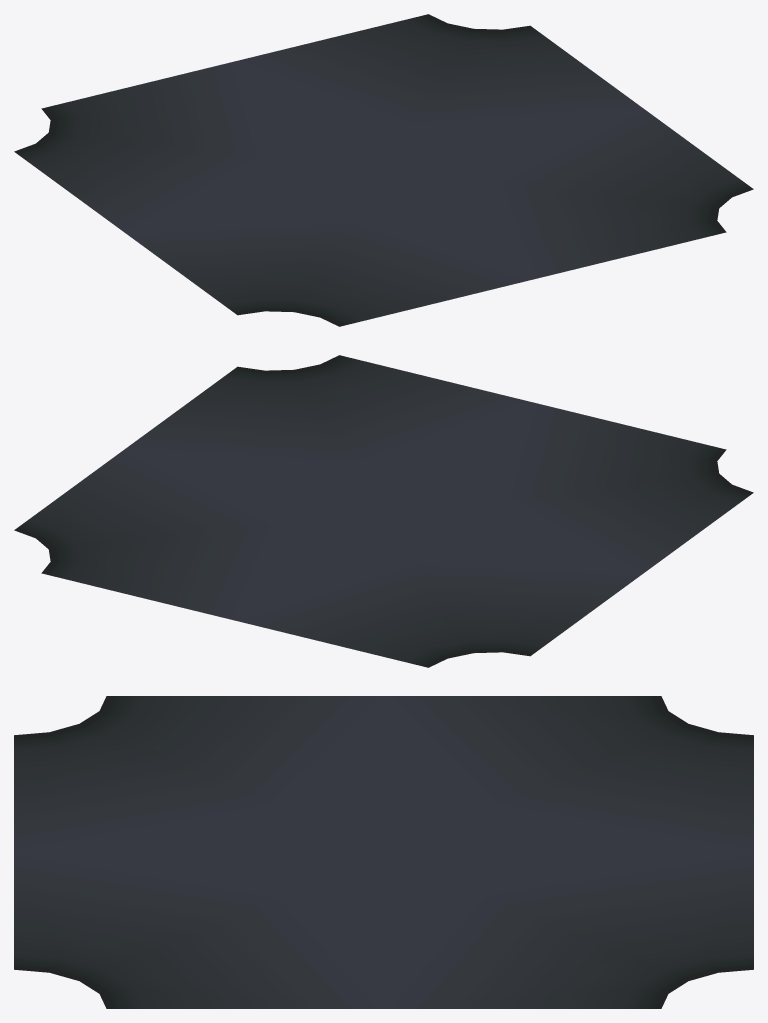
The model's file is cross.glb.
The picture shows the model from 3 angles, top to bottom: view 1: azimuth 30°, elevation 25°; view 2: azimuth 150°, elevation 25°; view 3: azimuth 270°, elevation 25°; orthographic projection. The views are drawn at different scales.
Visible parts, largest first — view 1: road_section_cross.001; view 2: road_section_cross.001; view 3: road_section_cross.001.
Boxes of the visible parts, bbox=[...] form: road_section_cross.001: bbox=[14, 14, 753, 326]; road_section_cross.001: bbox=[14, 355, 753, 667]; road_section_cross.001: bbox=[14, 696, 753, 1008].
Bounding box in the file's own units: 16 × 2.7e-06 × 16.
Materials: 1 (1 with a texture image).
